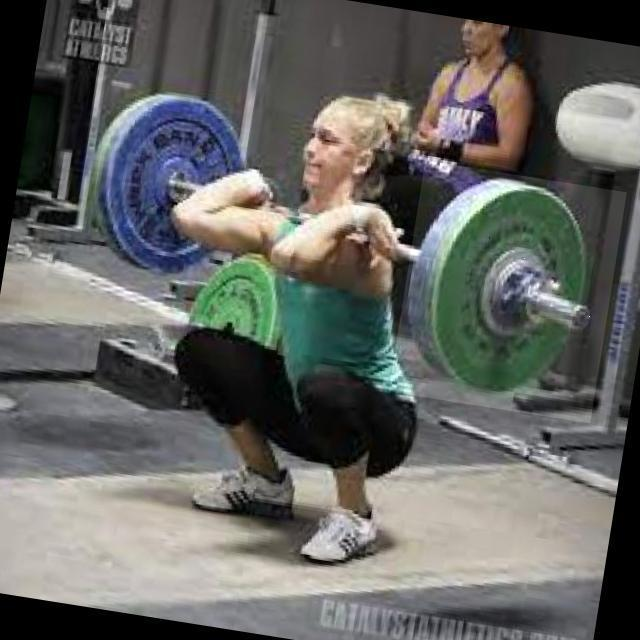barbell: (390, 162, 628, 425)
